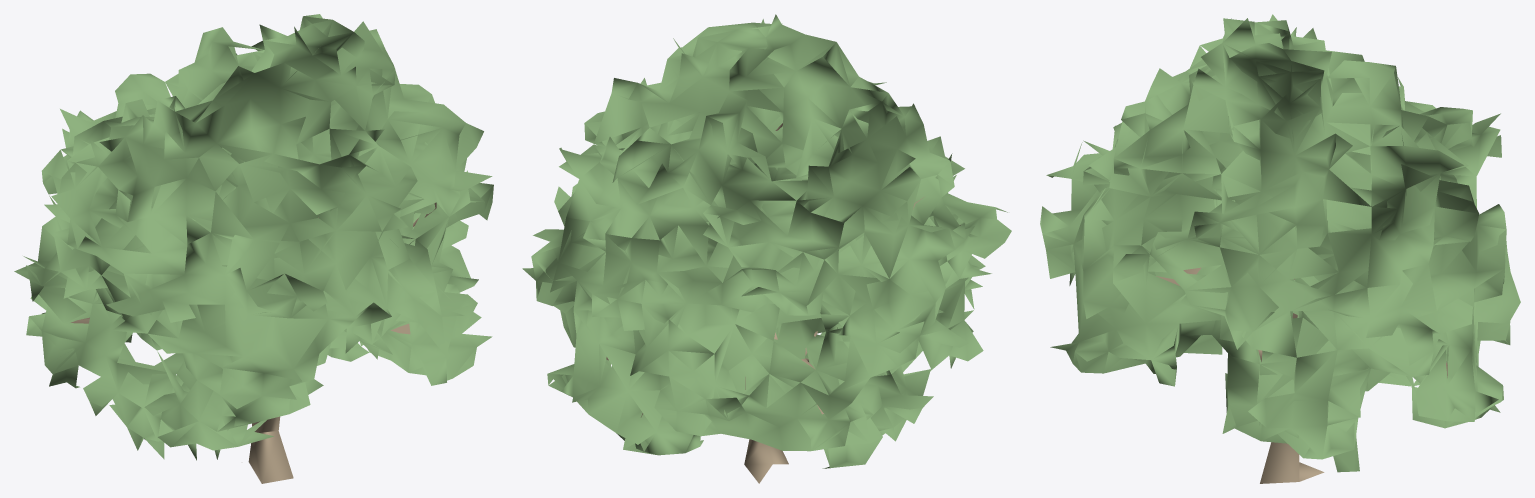
The model's file is mango.glb.
3 views of the same model, side by side, from view 1: azimuth 30°, elevation 25°; view 2: azimuth 150°, elevation 25°; view 3: azimuth 270°, elevation 25° (orthographic). The views are drawn at different scales.
Bounding box in the file's own units: 6.19 × 6.75 × 6.33.
